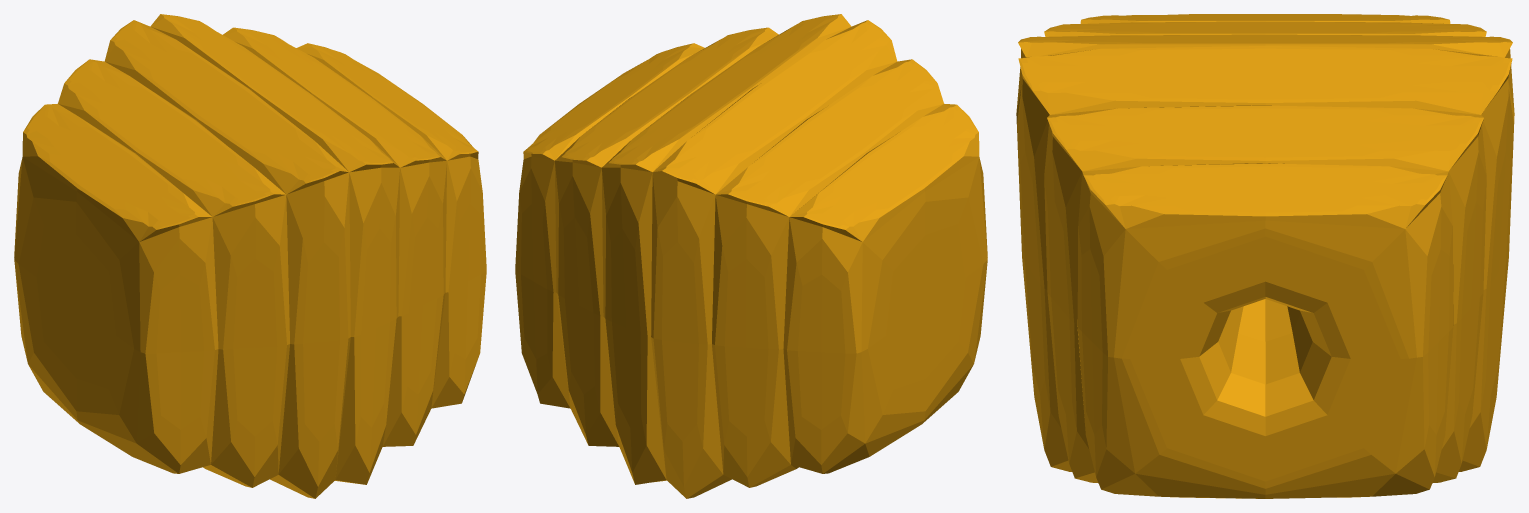
The model's file is panal (1).fbx.
3 renders of one model, left to right at view 1: azimuth 30°, elevation 25°; view 2: azimuth 150°, elevation 25°; view 3: azimuth 270°, elevation 25°, orthographic. The views are drawn at different scales.
Visible parts, largest first — view 1: Cube; view 2: Cube; view 3: Cube.
Part boxes in pixels (x1=…): Cube: x1=14, y1=14, x2=486, y2=498; Cube: x1=515, y1=14, x2=987, y2=498; Cube: x1=1016, y1=14, x2=1514, y2=498.
Bounding box in the file's own units: 3.09 × 2.97 × 3.19.
